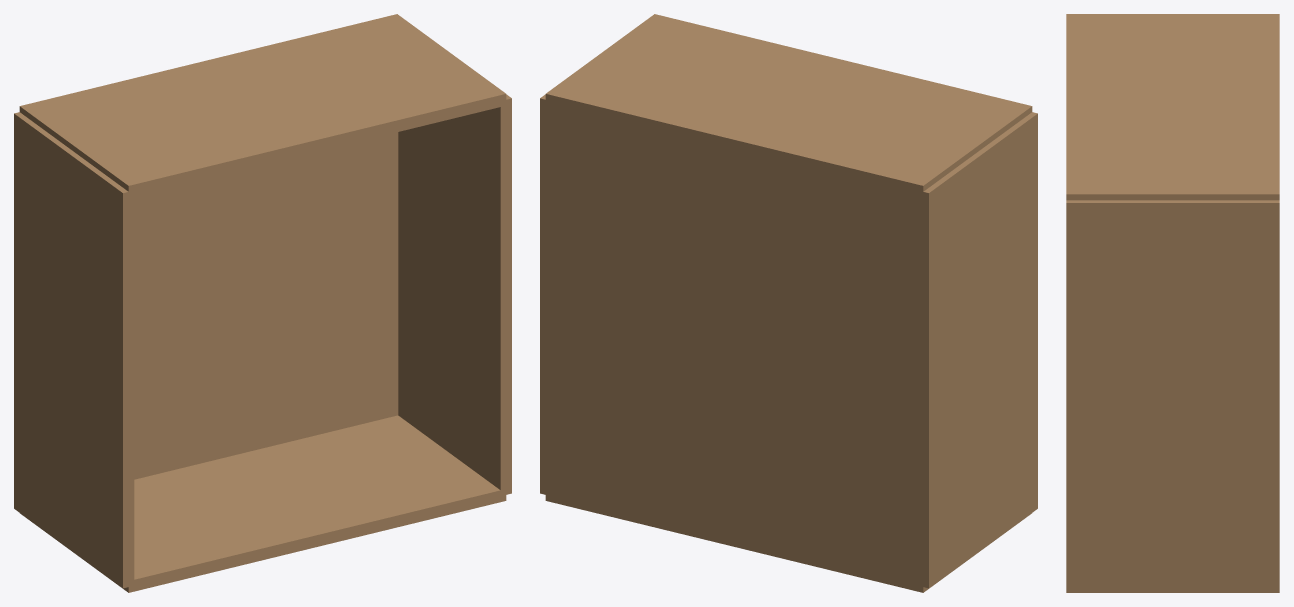
Rendered from mod_interior_room_shell.glb.
3 views of the same model, side by side, from view 1: azimuth 30°, elevation 25°; view 2: azimuth 150°, elevation 25°; view 3: azimuth 270°, elevation 25° (orthographic). The views are drawn at different scales.
Parts seen in each view (by area): view 1: floor, wall_w, wall_n, wall_e, wall_s; view 2: floor, wall_w, wall_n, wall_e, wall_s; view 3: wall_e, wall_n, wall_s.
Part boxes in pixels (left/top/right/bottom): floor: left=134, top=132, right=398, bottom=479; wall_w: left=14, top=112, right=134, bottom=588; wall_n: left=19, top=14, right=506, bottom=197; wall_e: left=398, top=94, right=511, bottom=495; wall_s: left=20, top=415, right=506, bottom=592; floor: left=545, top=100, right=923, bottom=586; wall_w: left=917, top=112, right=1037, bottom=588; wall_n: left=545, top=14, right=1032, bottom=196; wall_e: left=540, top=94, right=551, bottom=495; wall_s: left=545, top=489, right=1031, bottom=592; wall_e: left=1066, top=200, right=1279, bottom=589; wall_n: left=1066, top=14, right=1279, bottom=200; wall_s: left=1066, top=590, right=1279, bottom=592.
Bounding box in the file's own units: 6.18 × 6.18 × 3.
